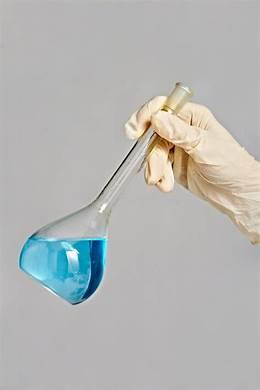Volumetric flask: (18, 51, 195, 327)
